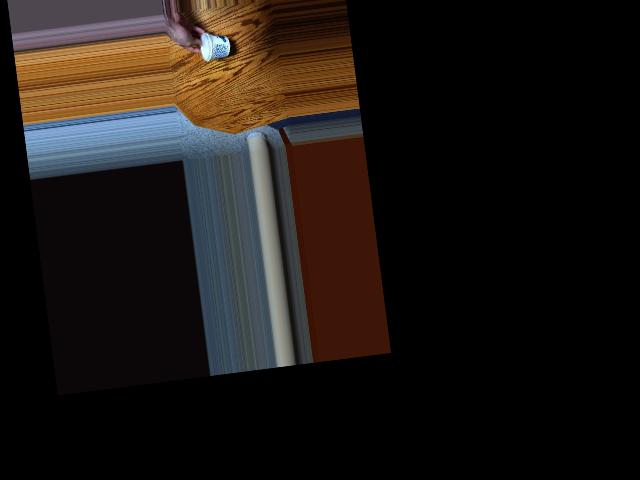cotage: (195, 30, 228, 56)
